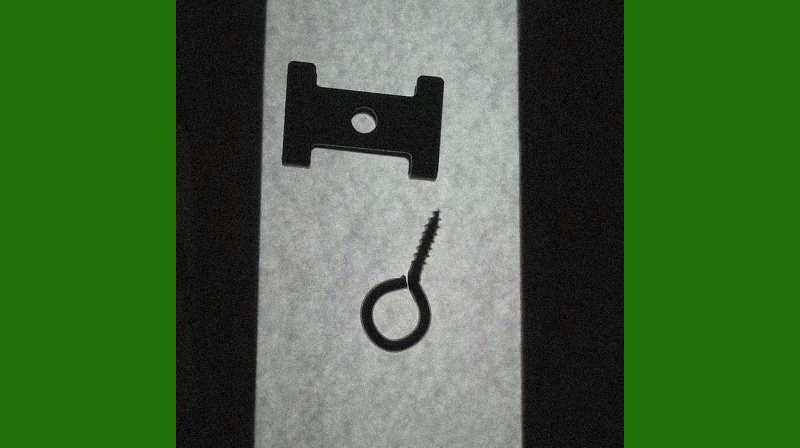O001: (358, 206, 444, 357)
O002: (278, 55, 450, 183)
S001: (359, 443, 449, 447)
